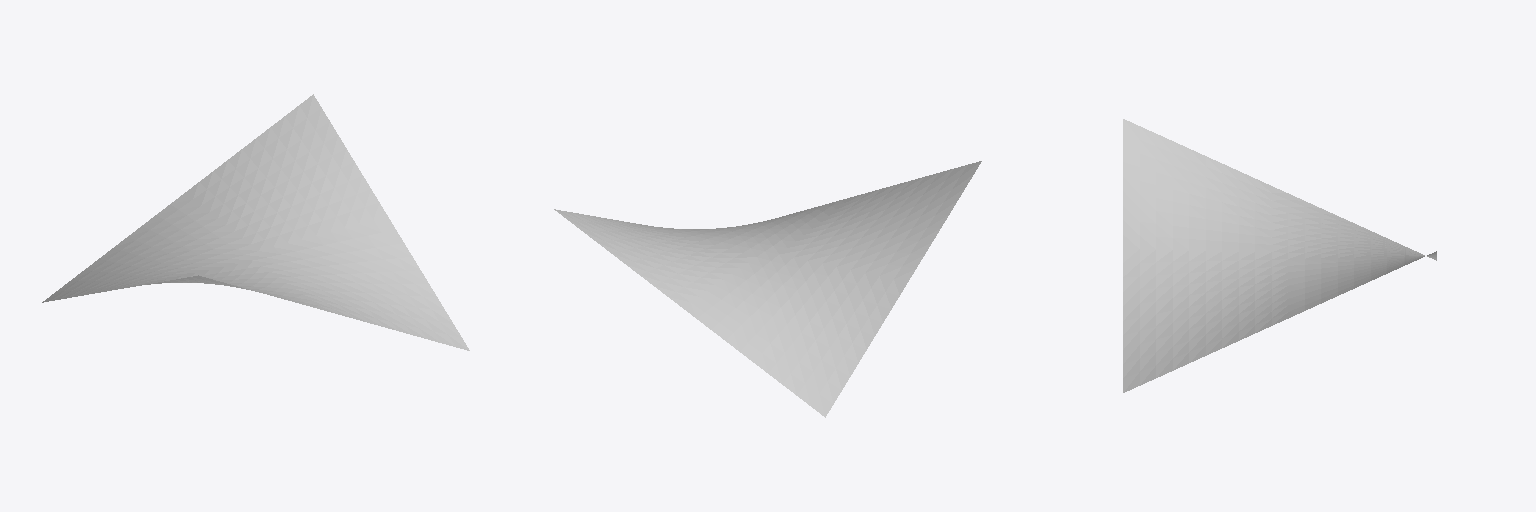
3 renders of one model, left to right at view 1: azimuth 30°, elevation 25°; view 2: azimuth 150°, elevation 25°; view 3: azimuth 270°, elevation 25°, orthographic.
Parts seen in each view (by area): view 1: Z_Function.001, Z_Function; view 2: Z_Function.001, Z_Function; view 3: Z_Function.001, Z_Function.
Boxes of the visible parts, <box> form: Z_Function.001: <box>42,94,469,350</box>; Z_Function: <box>45,97,468,350</box>; Z_Function.001: <box>554,161,981,417</box>; Z_Function: <box>555,161,980,415</box>; Z_Function.001: <box>1123,119,1436,392</box>; Z_Function: <box>1123,119,1436,392</box>.
Bounding box in the file's own units: 1 × 0.5 × 1.